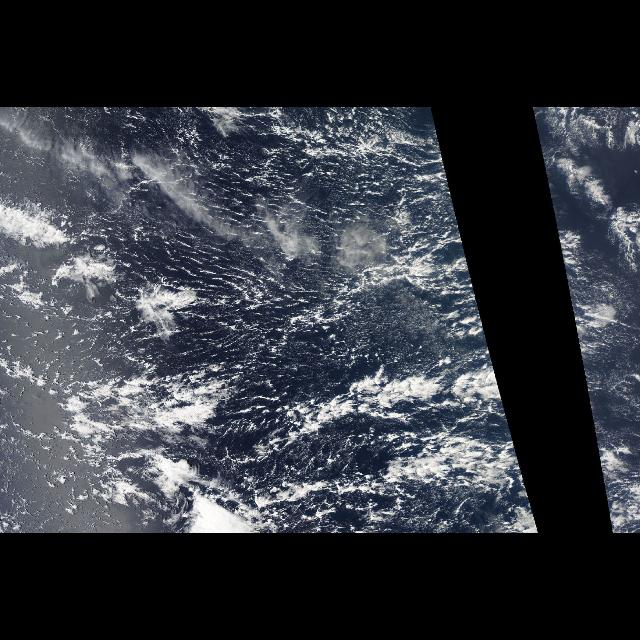Fish: (27, 203, 455, 511)
Gravel: (219, 313, 439, 521)
Sugar: (1, 113, 458, 527)
